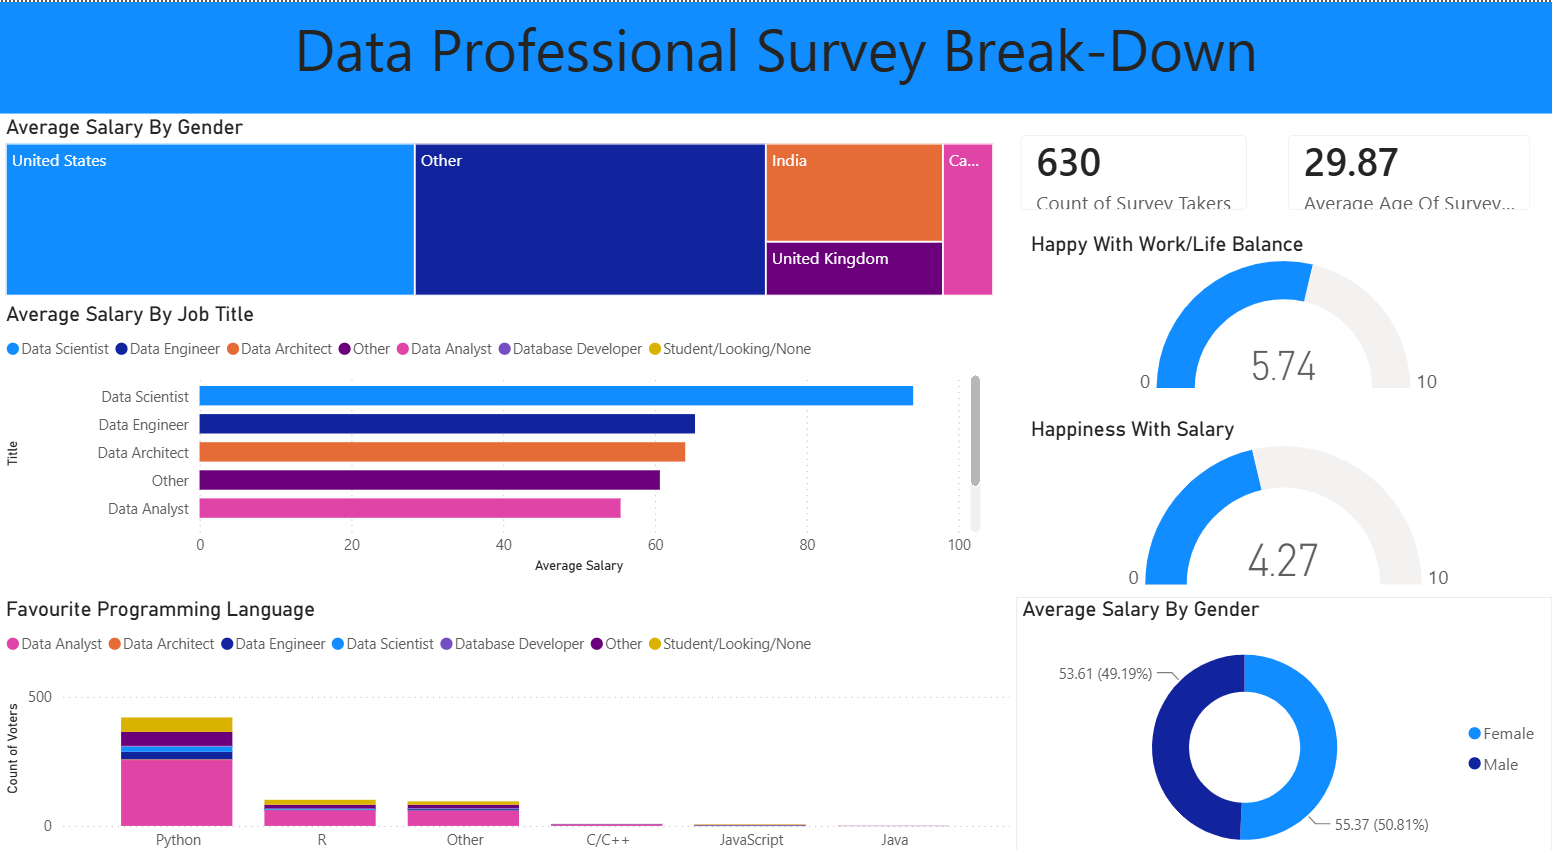

The page's visual inventory and layout, read from the dashboard file:
{"tool":"powerbi","page":{"name":"Page 1","canvas":[1280,720],"ordinal":0},"visuals":[{"type":"textbox","box":[0,0,1280.3,91.9],"z":0},{"type":"cardVisual","fields":{"Data":["CountNonNull(Data Professional Survey.Unique ID)"]},"box":[824.2,92.4,221.2,97],"z":1000},{"type":"cardVisual","fields":{"Data":["Avg(Data Professional Survey.Q10 - Current Age)"]},"box":[1045.5,92.4,234.8,97],"z":2000},{"type":"gauge","title":"Happy With Work/Life Balance","fields":{"Y":["Avg(Data Professional Survey.Q6 - How Happy are you in your Current Position with the following? (Work/Life Balance))"],"MinValue":["Min(Data Professional Survey.Q6 - How Happy are you in your Current Position with the following? (Work/Life Balance))"],"MaxValue":["Max(Data Professional Survey.Q6 - How Happy are you in your Current Position with the following? (Work/Life Balance))"]},"box":[845.5,177.3,434.8,139.4],"z":3000},{"type":"gauge","title":"Happiness With Salary","fields":{"Y":["Avg(Data Professional Survey.Q6 - How Happy are you in your Current Position with the following? (Salary))"],"MinValue":["Min(Data Professional Survey.Q6 - How Happy are you in your Current Position with the following? (Salary))"],"MaxValue":["Max(Data Professional Survey.Q6 - How Happy are you in your Current Position with the following? (Salary))"]},"box":[837.9,328.8,442.4,162.1],"z":4000},{"type":"columnChart","title":"Favourite Programming Language","fields":{"Category":["Data Professional Survey.Q5 - Favorite Programming Language.1"],"Y":["CountNonNull(Data Professional Survey.Unique ID)"],"Series":["Data Professional Survey.Q1 - Which Title Best Fits your Current Role?.1"]},"box":[0,490.9,837.9,228.8],"z":5000},{"type":"barChart","title":"Average Salary By Job Title","fields":{"Category":["Data Professional Survey.Q1 - Which Title Best Fits your Current Role?.1"],"Series":["Data Professional Survey.Q1 - Which Title Best Fits your Current Role?.1"],"Y":["Avg(Data Professional Survey.Average Salary)"]},"box":[0,247,813.6,228.8],"z":6000},{"type":"treemap","title":"Average Salary By  Gender","fields":{"Group":["Data Professional Survey.Q11 - Which Country do you live in?.1"],"Values":["CountNonNull(Data Professional Survey.Q11 - Which Country do you live in?.1)"]},"box":[0,92.4,824.2,154.5],"z":7000},{"type":"donutChart","title":"Average Salary By Gender","fields":{"Category":["Data Professional Survey.Q9 - Male/Female?"],"Y":["Avg(Data Professional Survey.Average Salary)"]},"box":[837.9,454.5,442.4,265.2],"z":8000}]}

Visuals, with their boxes in screenshot pixels (x1, y1, x2, y2), scaled from the page's 1280x720 canvas onto the 1552x850 screenshot:
textbox: detection(0, 0, 1551, 108)
cardVisual - CountNonNull(Data Professional Survey.Unique ID): detection(999, 109, 1268, 224)
cardVisual - Avg(Data Professional Survey.Q10 - Current Age): detection(1268, 109, 1551, 224)
"Happy With Work/Life Balance" gauge: detection(1025, 209, 1551, 374)
"Happiness With Salary" gauge: detection(1016, 388, 1551, 580)
"Favourite Programming Language" columnChart: detection(0, 580, 1016, 849)
"Average Salary By Job Title" barChart: detection(0, 292, 986, 562)
"Average Salary By  Gender" treemap: detection(0, 109, 999, 291)
"Average Salary By Gender" donutChart: detection(1016, 537, 1551, 849)
